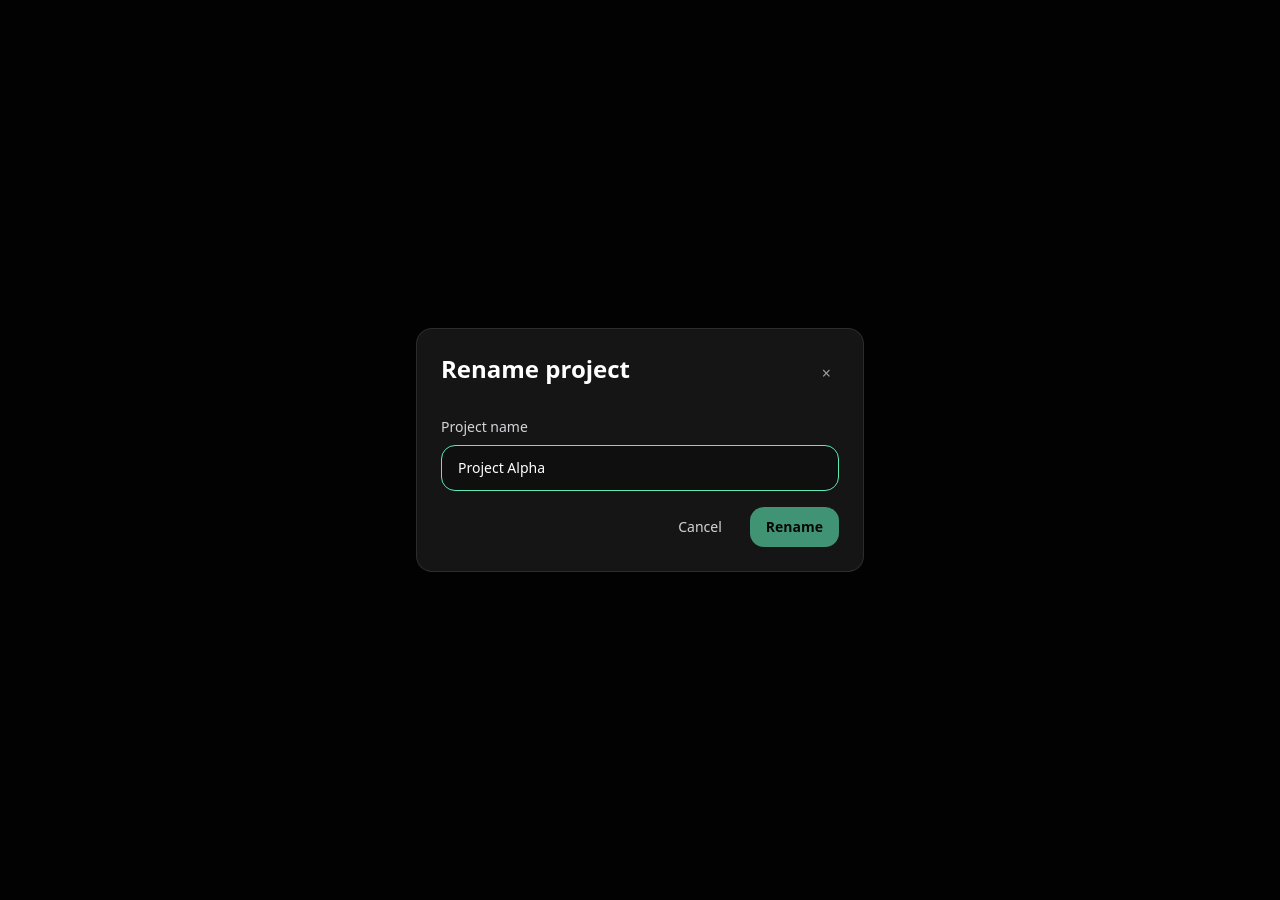
LWC-174 project rename modal behavior › keeps input and shows server error when rename API fails
Replace the text in the field labelled "Project name" with "Project Beta" at (640, 468), box [441,445,839,491]
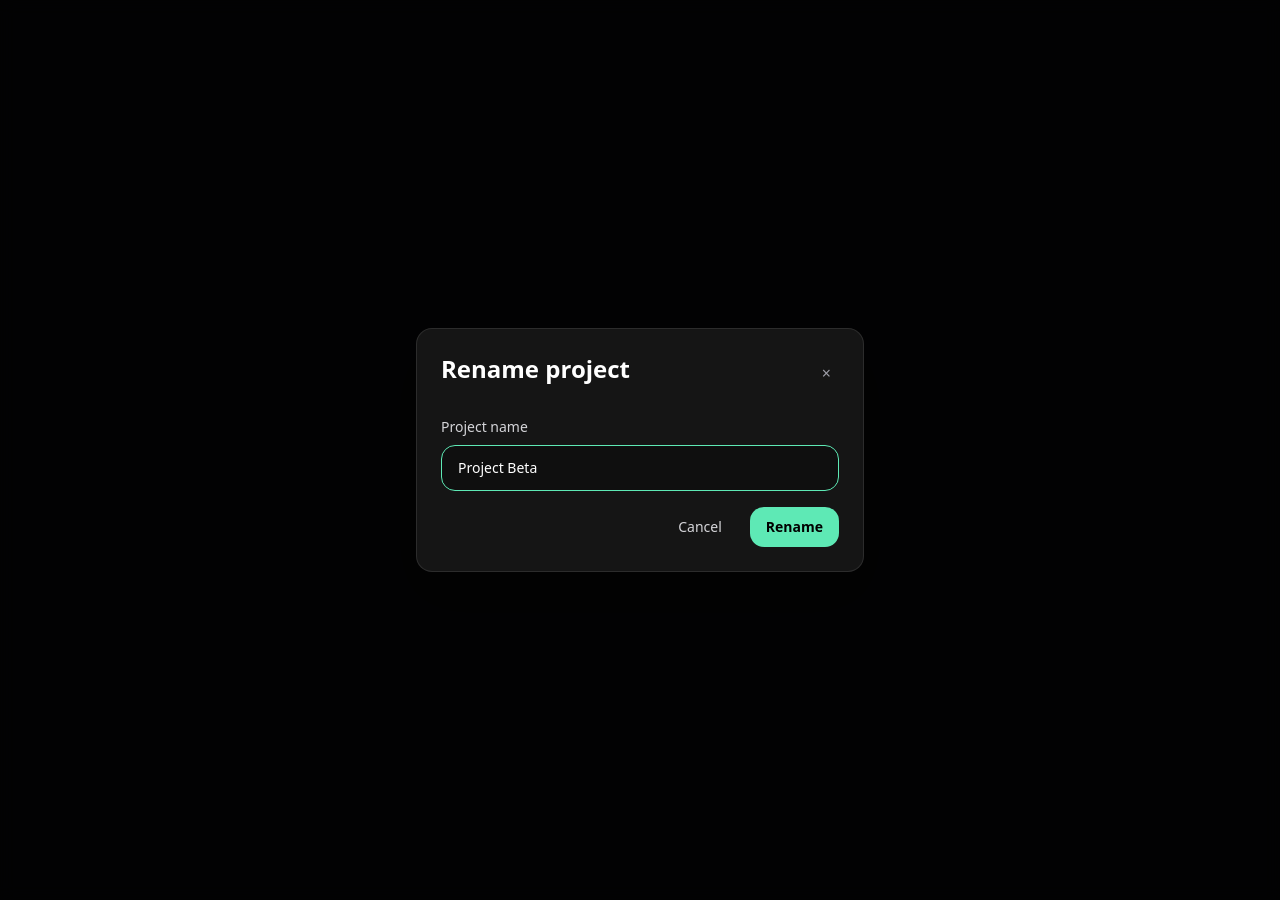
Click the button "Rename".
click(794, 527)  # box [750,507,839,547]
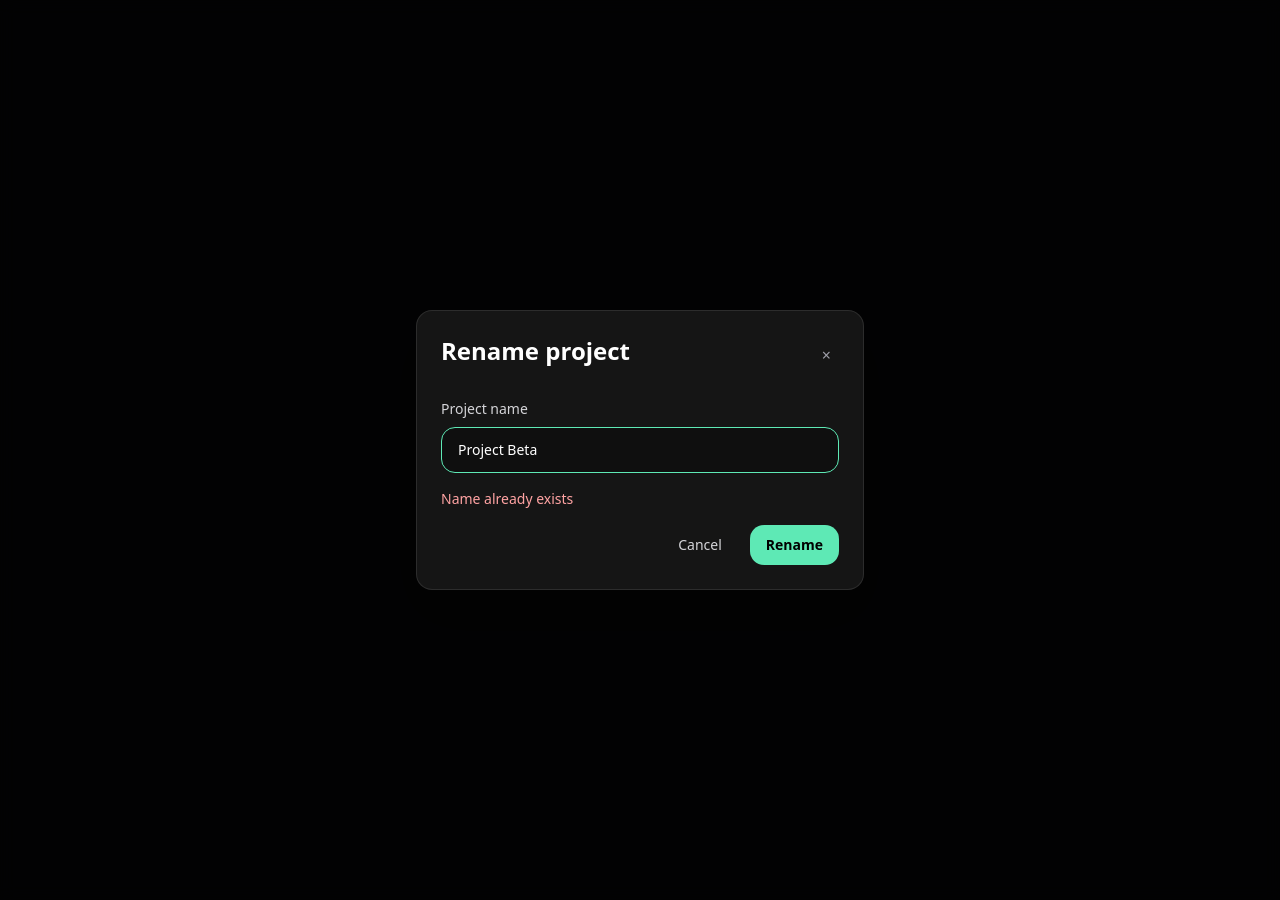
Now the text "Name already exists" is shown, box [441,489,573,508]
